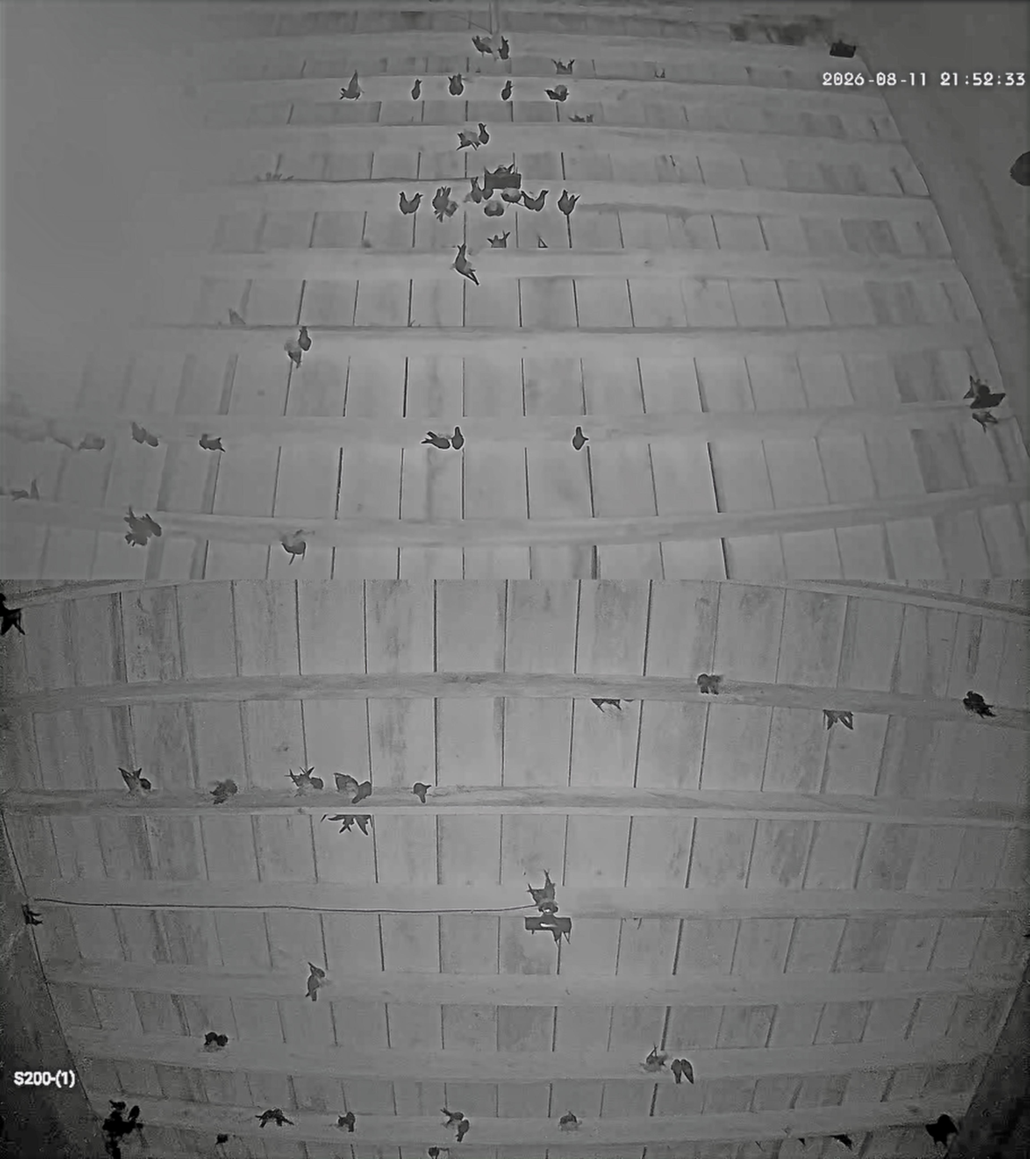swallow bird: (524, 903, 571, 945), (124, 506, 160, 546), (525, 914, 571, 945), (963, 376, 1005, 409), (43, 420, 82, 450), (453, 243, 479, 285), (925, 1114, 958, 1146), (537, 915, 571, 946), (528, 870, 555, 906), (281, 530, 306, 565), (287, 766, 323, 790), (963, 690, 994, 717), (119, 767, 151, 793), (306, 962, 325, 1001), (485, 162, 520, 183), (1009, 152, 1030, 186), (8, 479, 40, 501), (642, 1045, 668, 1072), (131, 421, 158, 447), (431, 187, 451, 222), (0, 609, 25, 637), (211, 779, 237, 805), (823, 709, 853, 730), (322, 814, 355, 833), (557, 190, 579, 218), (340, 70, 361, 99), (7, 391, 30, 417), (558, 190, 579, 218), (7, 392, 30, 417), (971, 410, 997, 432), (284, 338, 303, 368), (522, 190, 549, 211), (522, 191, 549, 211), (482, 169, 499, 200), (351, 780, 372, 805), (400, 191, 422, 214), (472, 34, 494, 57), (697, 673, 721, 694), (422, 431, 450, 449), (199, 433, 225, 452), (457, 130, 480, 151), (334, 772, 359, 791), (76, 435, 105, 451), (441, 1108, 465, 1127), (204, 1032, 228, 1051), (571, 426, 589, 451), (336, 1111, 356, 1133), (22, 903, 41, 926), (678, 1059, 694, 1084), (559, 1111, 579, 1131), (545, 85, 568, 102), (591, 698, 621, 711), (469, 177, 484, 203), (413, 783, 431, 804), (298, 326, 312, 353), (552, 58, 574, 75), (450, 426, 465, 450), (488, 231, 509, 248), (482, 199, 503, 216), (831, 1134, 853, 1150), (354, 815, 371, 835), (501, 188, 521, 205), (456, 1119, 470, 1143), (483, 201, 504, 217), (670, 1059, 683, 1084), (228, 308, 245, 326), (449, 74, 463, 95), (320, 814, 352, 823), (537, 901, 557, 915), (478, 122, 490, 145), (428, 1146, 449, 1159), (443, 200, 458, 218), (498, 36, 509, 60), (127, 1105, 140, 1125), (500, 80, 512, 101), (28, 479, 40, 500), (411, 79, 421, 100), (109, 1100, 125, 1113), (569, 114, 592, 123), (216, 1133, 229, 1146), (537, 237, 550, 249), (0, 487, 14, 498), (654, 68, 666, 79), (585, 113, 594, 123), (1022, 930, 1030, 939), (282, 175, 294, 181), (799, 1137, 806, 1147)
